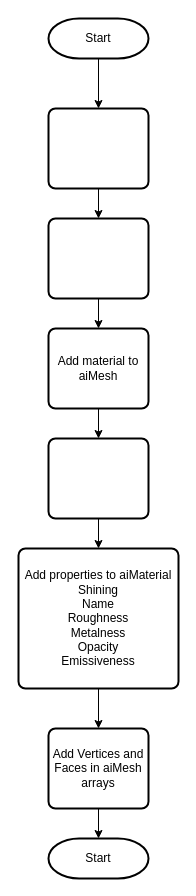
This 196x896 diagram has some shape labels left out. Here are the shapes that lost their labels. From the top down, the centre of each, then its label:
At (98,148): "Transform object space to Node space".
At (98,258): "create aiMesh from data".
At (98,478): "Export textures and add in aiMaterial".
